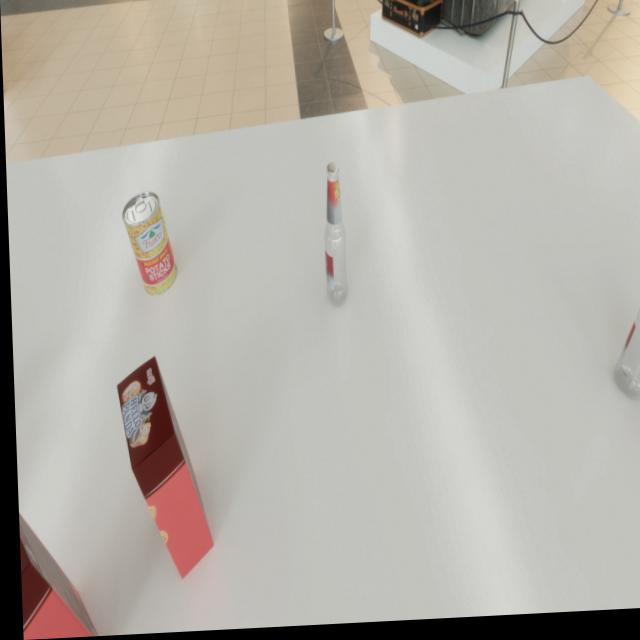Bottle: (606, 245, 640, 406), (319, 165, 347, 310)
HelloPanda: (113, 356, 210, 583)
Potato_sticks: (120, 192, 176, 298)
